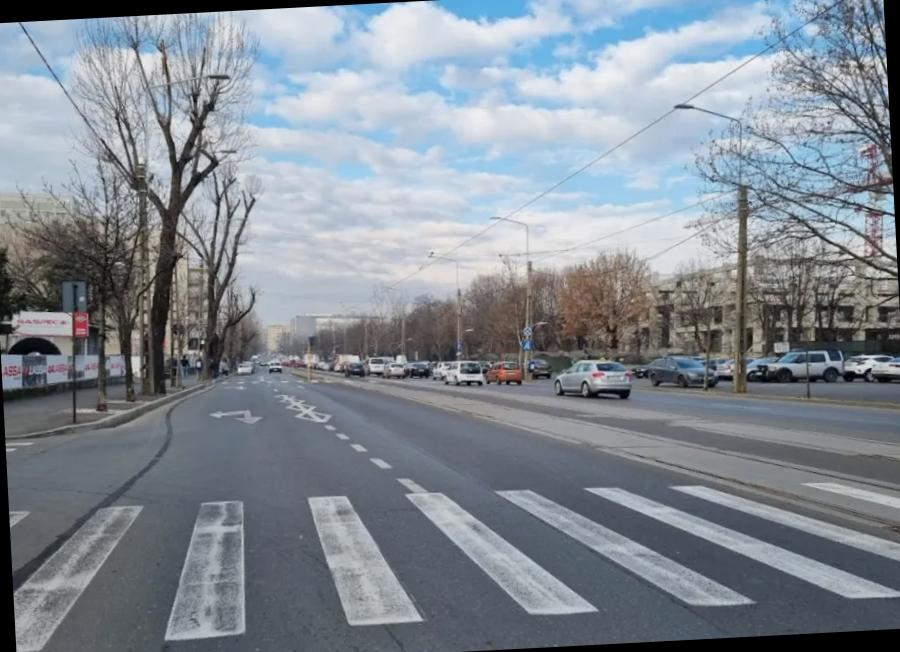faded_road_lines: (586, 487, 900, 598), (499, 490, 754, 605), (406, 493, 597, 615), (13, 506, 142, 652), (671, 485, 900, 561), (309, 496, 421, 624), (165, 501, 245, 641), (802, 482, 900, 509), (211, 410, 262, 425), (5, 438, 42, 457), (9, 510, 27, 528)
